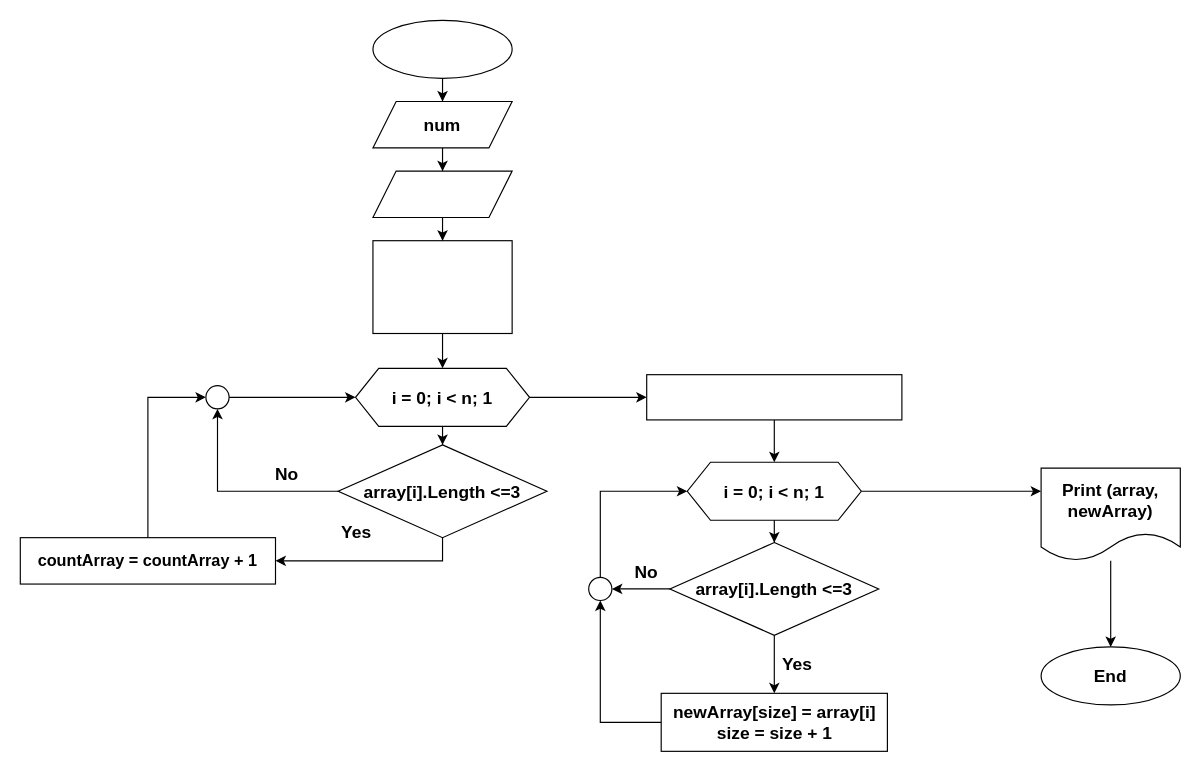
Image size: 1201x773. Some labels were removed from this diagram. Each missing label, with the box of its shape:
array[i] = 0 countArray = 0 size = 0 nowArray[i] = 0: (372, 240, 512, 334)
array[num]: (372, 170, 512, 217)
newArray[size] = countArray: (646, 374, 902, 420)
Start: (372, 19, 512, 78)
